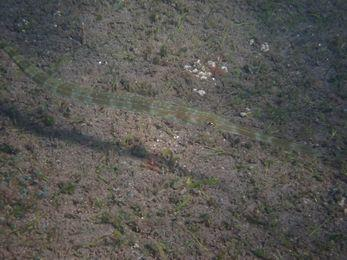Fistularia commersonii: (29, 58, 302, 169)
